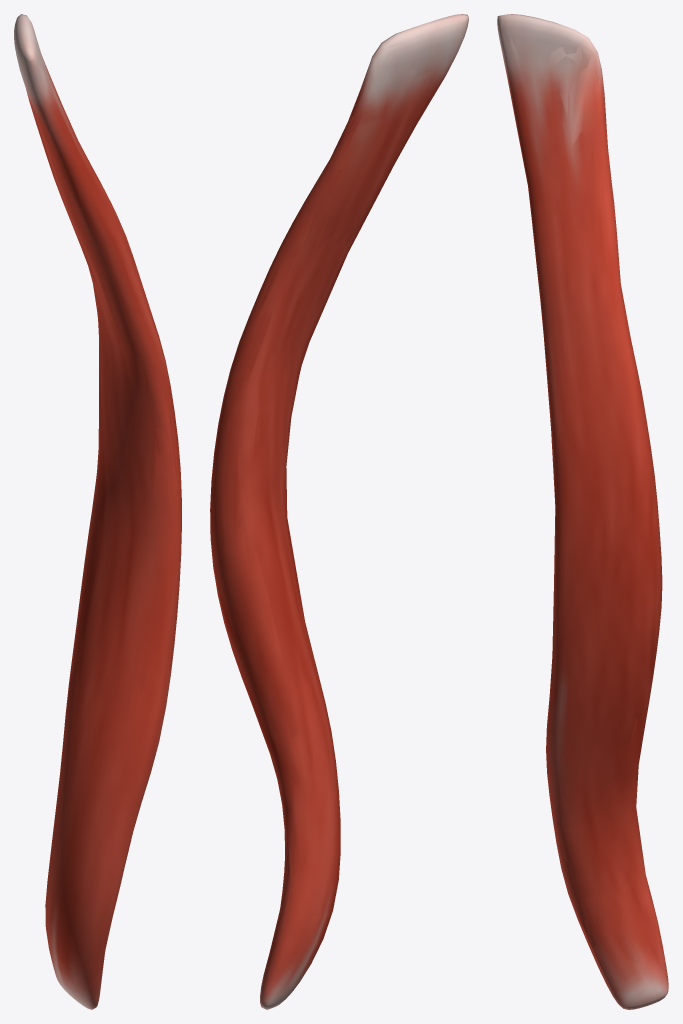
Rendered from L Sartorius.fbx.
3 renders of one model, left to right at view 1: azimuth 30°, elevation 25°; view 2: azimuth 150°, elevation 25°; view 3: azimuth 270°, elevation 25°, orthographic. The views are drawn at different scales.
Visible parts, largest first — view 1: L Sartorius low, L Sartorius; view 2: L Sartorius, L Sartorius low; view 3: L Sartorius, L Sartorius low.
Part boxes in pixels (x1=…): L Sartorius low: x1=15, y1=16, x2=179, y2=998; L Sartorius: x1=14, y1=14, x2=181, y2=1009; L Sartorius: x1=210, y1=14, x2=468, y2=1009; L Sartorius low: x1=211, y1=26, x2=447, y2=1008; L Sartorius: x1=497, y1=14, x2=668, y2=1009; L Sartorius low: x1=498, y1=23, x2=665, y2=1003.
Size of the model in its own units: 11.8 by 58.63 by 9.7.
